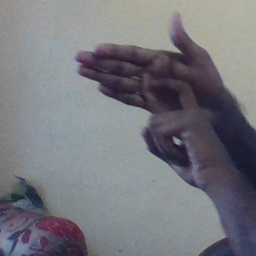R: (76, 9, 221, 178)
